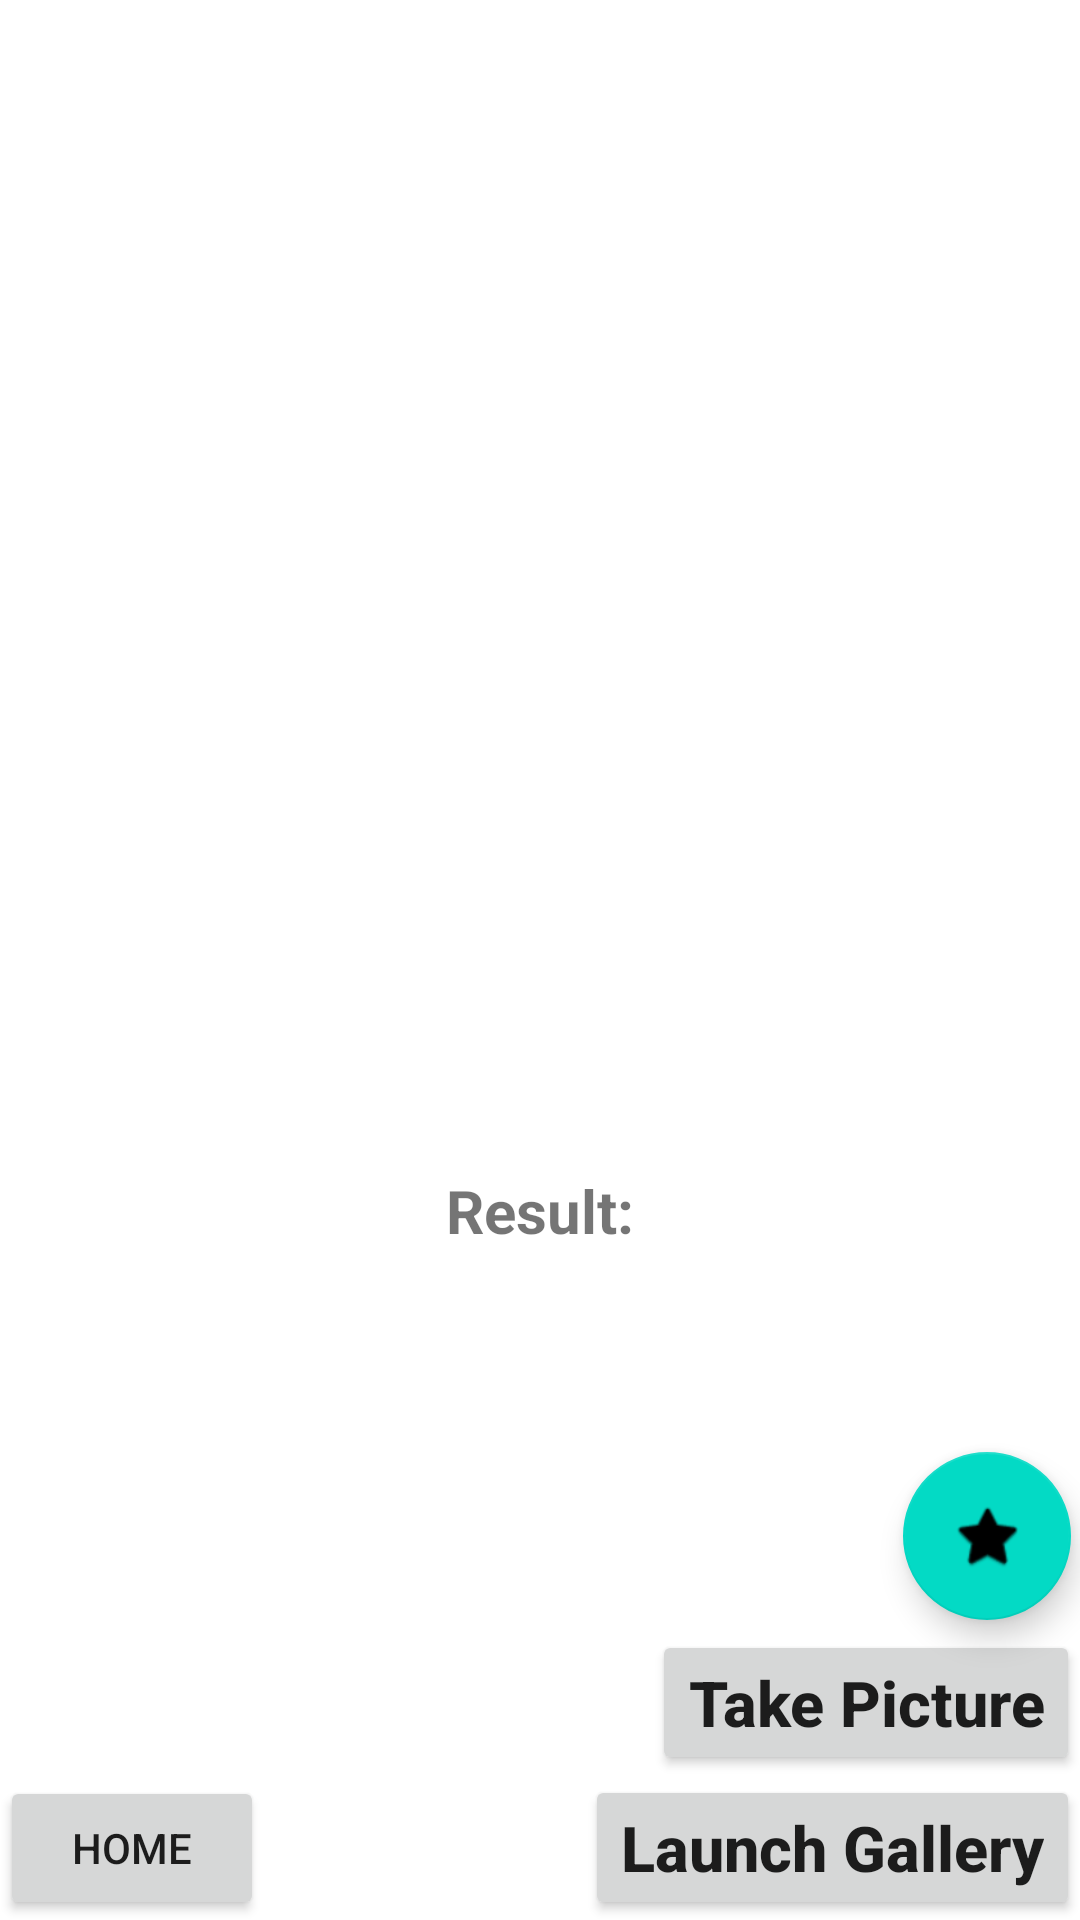

Screen size 1080x1920. Icon name, then its center in pixels as (x=x, y=y):
star on: (x=987, y=1536)
